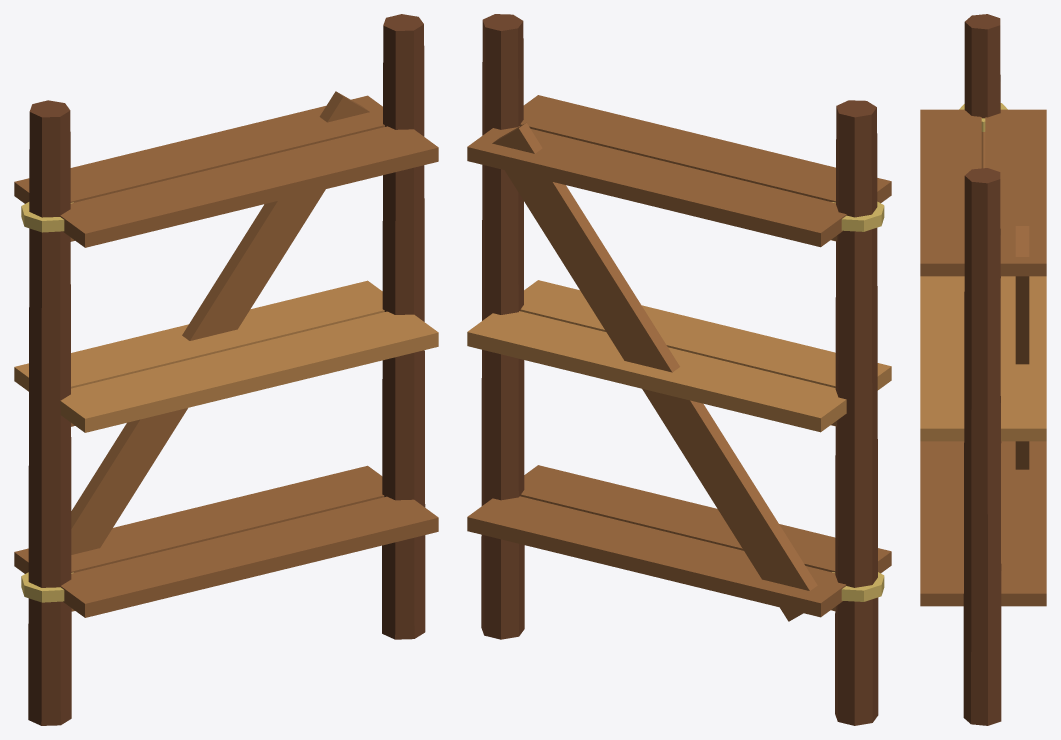
File: shelf.glb
3 renders of one model, left to right at view 1: azimuth 30°, elevation 25°; view 2: azimuth 150°, elevation 25°; view 3: azimuth 270°, elevation 25°, orthographic. The views are drawn at different scales.
Parts seen in each view (by area): view 1: shelf.001; view 2: shelf.001; view 3: shelf.001.
Boxes of the visible parts, left/top/right/bottom form: shelf.001: left=14, top=14, right=438, bottom=725; shelf.001: left=467, top=14, right=891, bottom=725; shelf.001: left=920, top=14, right=1046, bottom=725.
Bounding box in the file's own units: 0.9722 × 1.42 × 0.3005.
